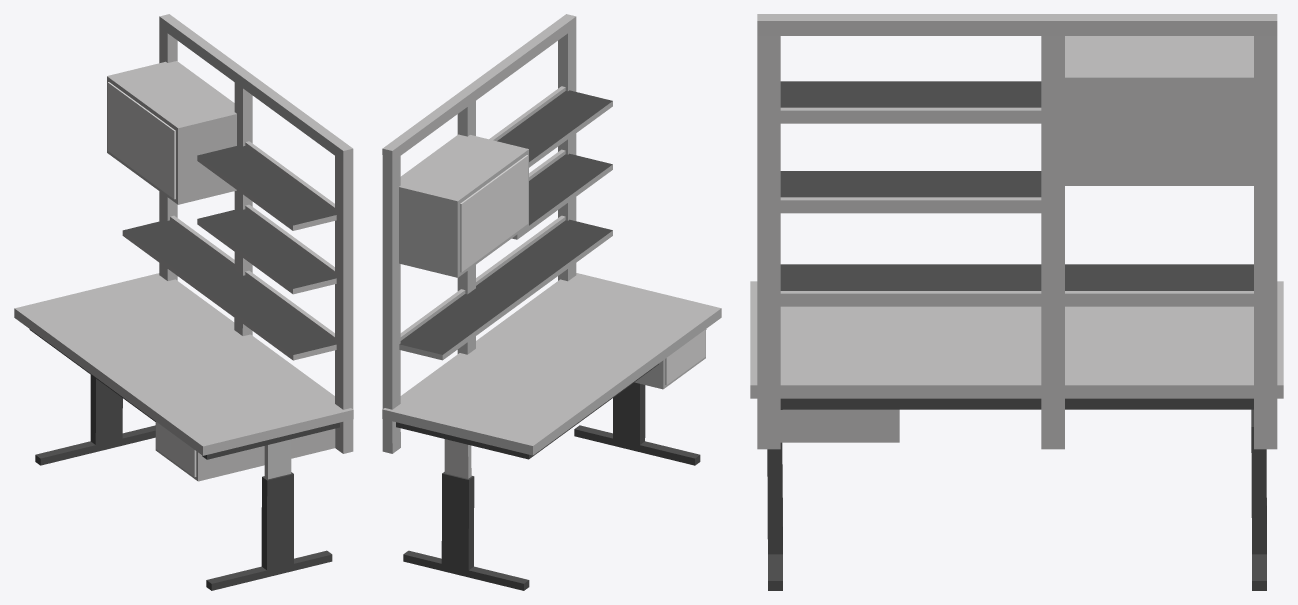
The model's file is F_Table_03fbx.fbx.
The picture shows the model from 3 angles, left to right: view 1: azimuth 30°, elevation 25°; view 2: azimuth 150°, elevation 25°; view 3: azimuth 270°, elevation 25°; orthographic projection. The views are drawn at different scales.
Parts seen in each view (by area): view 1: F_Table_03, F_Table_03_02, F_Table_03_01; view 2: F_Table_03, F_Table_03_02, F_Table_03_01; view 3: F_Table_03.
Boxes of the visible parts, x1,y1,x2,y2 form: F_Table_03: (14, 14, 353, 590); F_Table_03_02: (107, 82, 175, 199); F_Table_03_01: (156, 422, 196, 477); F_Table_03: (382, 14, 721, 590); F_Table_03_02: (460, 155, 528, 272); F_Table_03_01: (665, 329, 705, 385); F_Table_03: (750, 14, 1283, 590).
Size of the model in its own units: 93.26 by 240 by 199.
1 material, 1 textured.
